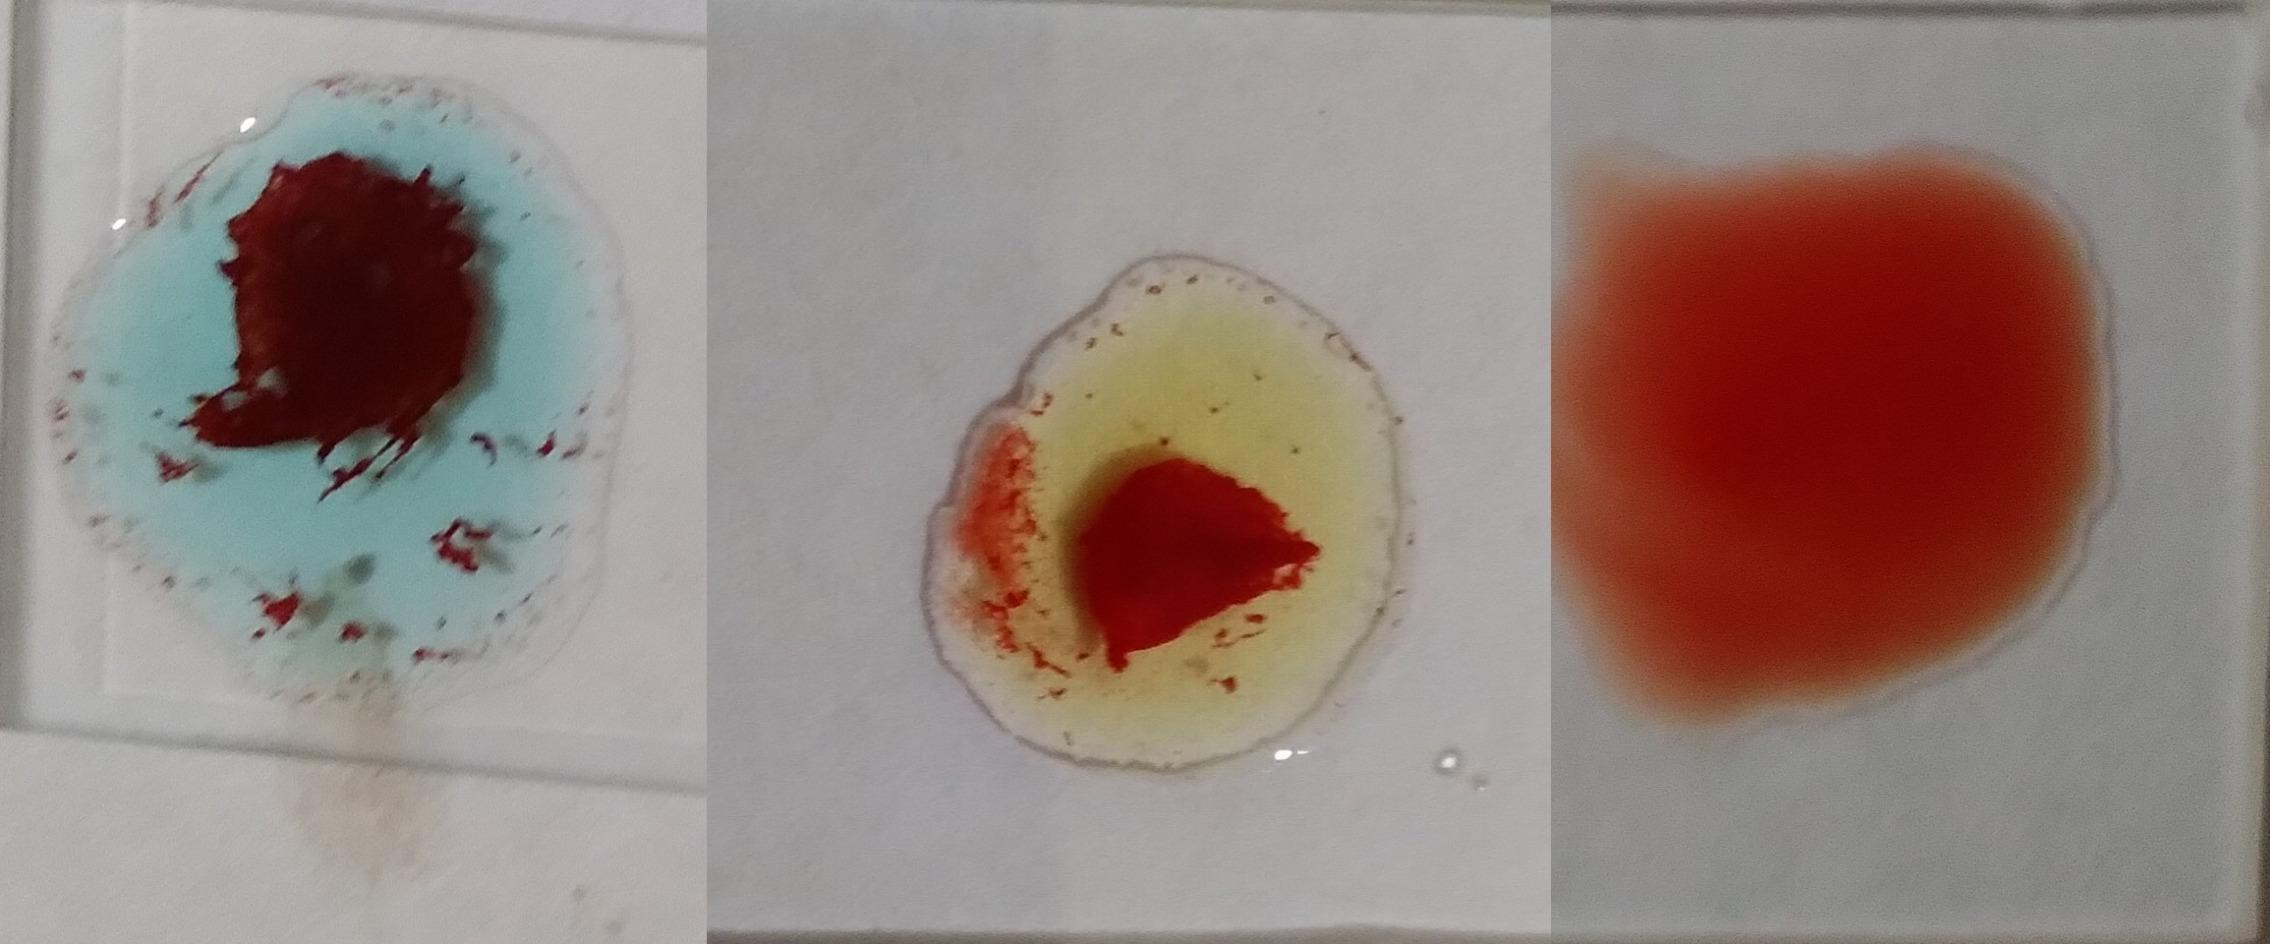A: (68, 67, 620, 696)
B: (963, 246, 1414, 780)
